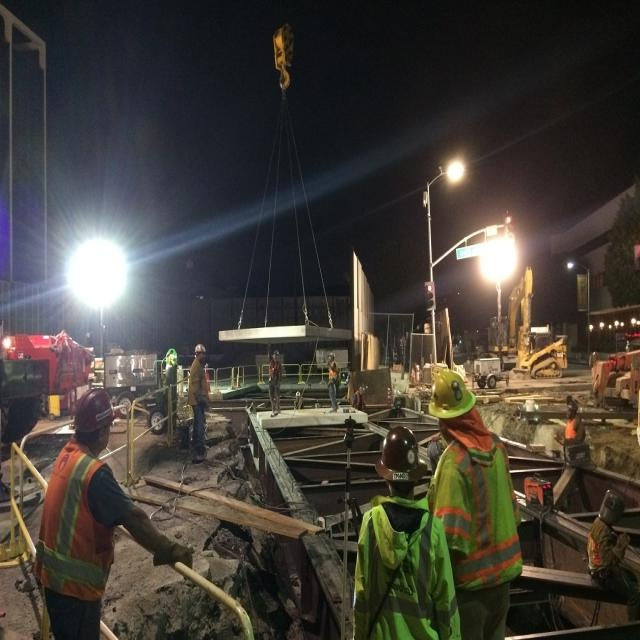Con_Casco: (374, 424, 427, 497), (429, 370, 479, 438), (73, 385, 115, 451)
Con_Chaleco: (31, 451, 121, 601), (439, 440, 523, 595), (354, 509, 443, 640)
